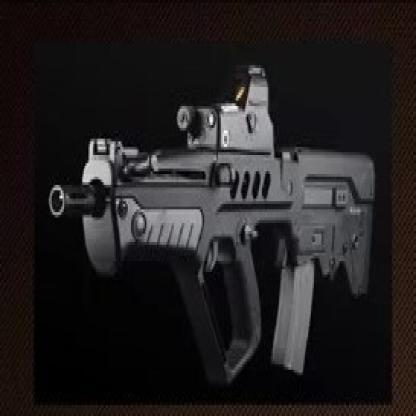Gun: (43, 57, 375, 384)
